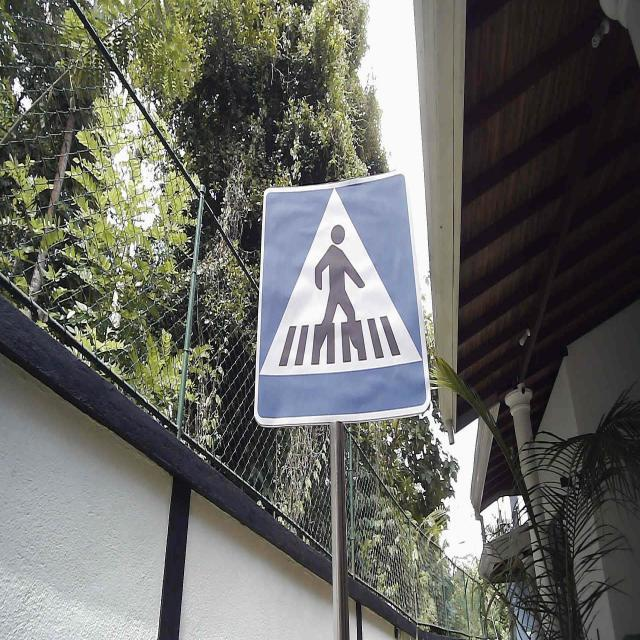crosswalk_sign: (252, 168, 432, 430)
